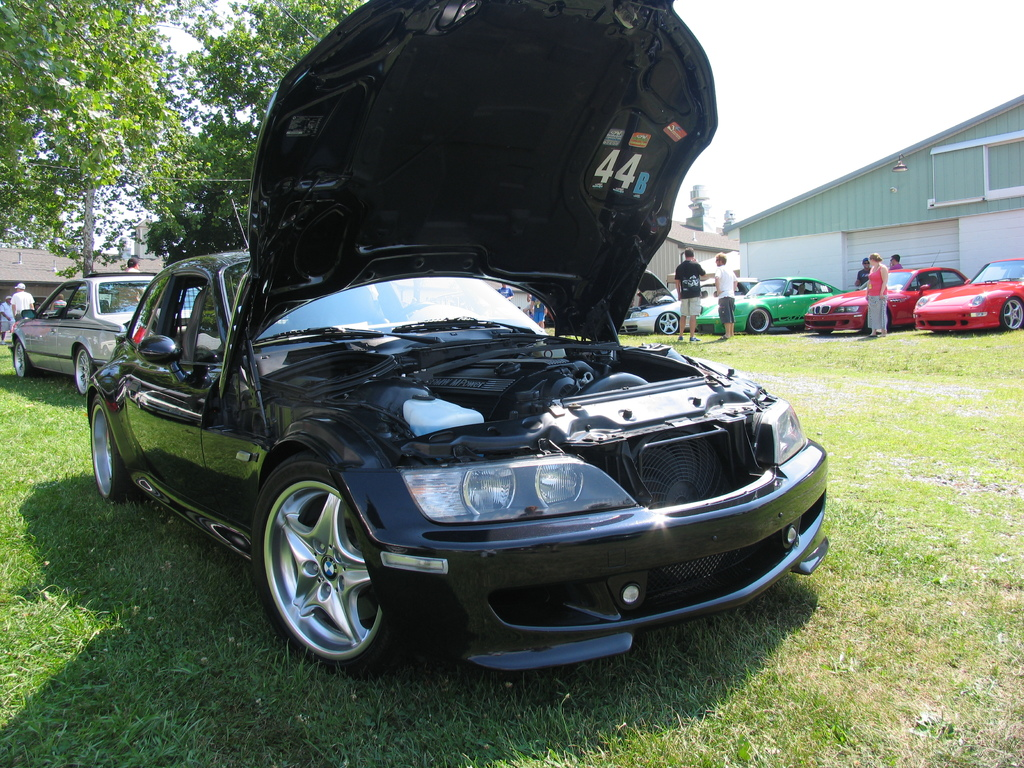Car: (88, 0, 831, 673), (4, 278, 154, 397), (809, 267, 965, 331), (622, 275, 758, 333), (697, 274, 839, 328), (916, 258, 1024, 328)
